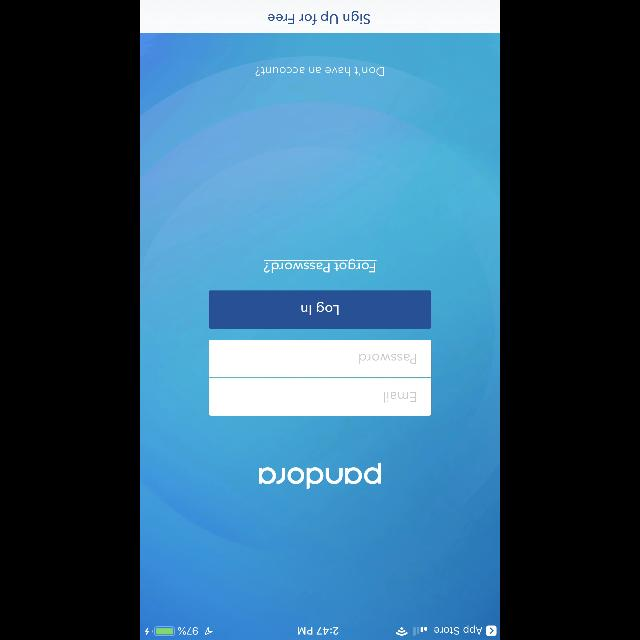backgroundimage: (140, 34, 500, 640)
input: (209, 340, 431, 378), (209, 378, 431, 416)
text: (259, 463, 381, 489), (264, 259, 376, 273), (256, 68, 384, 76), (359, 354, 416, 364), (384, 392, 416, 402)
textbutton: (140, 1, 500, 34), (209, 291, 431, 329)
uppertaskbar: (140, 625, 500, 639)
